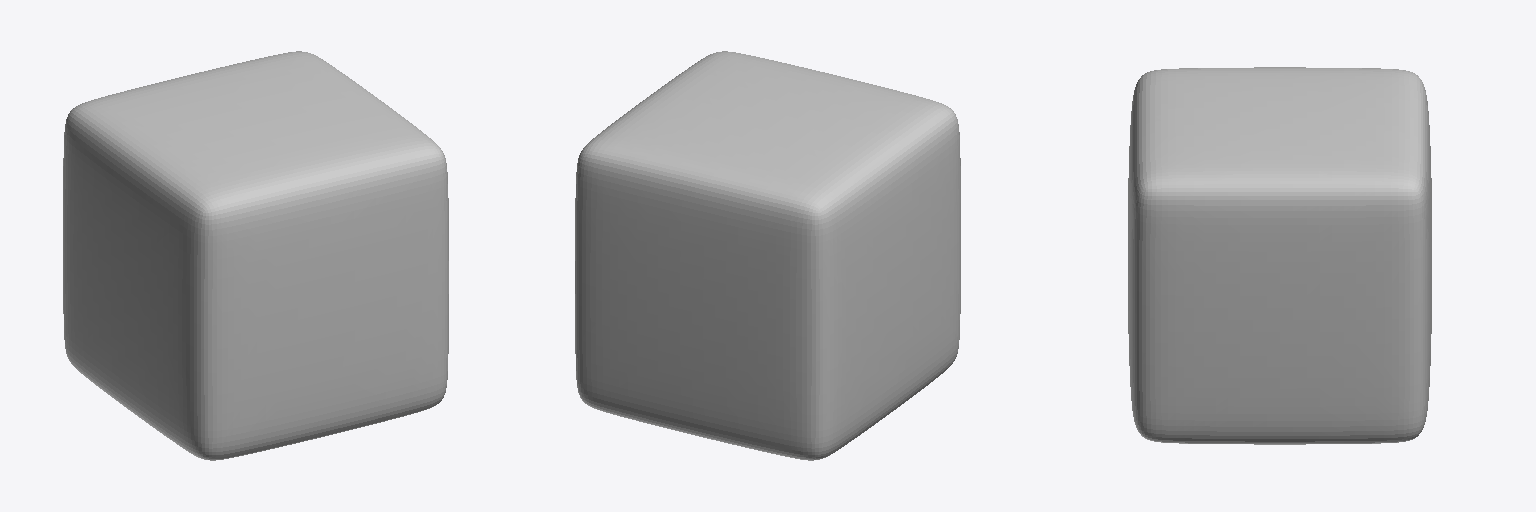
Rendered from DieFinal1.obj.
The picture shows the model from 3 angles: view 1: azimuth 30°, elevation 25°; view 2: azimuth 150°, elevation 25°; view 3: azimuth 270°, elevation 25°; orthographic projection.
Parts seen in each view (by area): view 1: DieFinal_Cube.003; view 2: DieFinal_Cube.003; view 3: DieFinal_Cube.003.
Boxes of the visible parts, x1,y1,x2,y2 form: DieFinal_Cube.003: [63, 51, 448, 460]; DieFinal_Cube.003: [575, 51, 960, 460]; DieFinal_Cube.003: [1128, 67, 1431, 444].
Bounding box in the file's own units: 1.99 × 1.99 × 1.99.